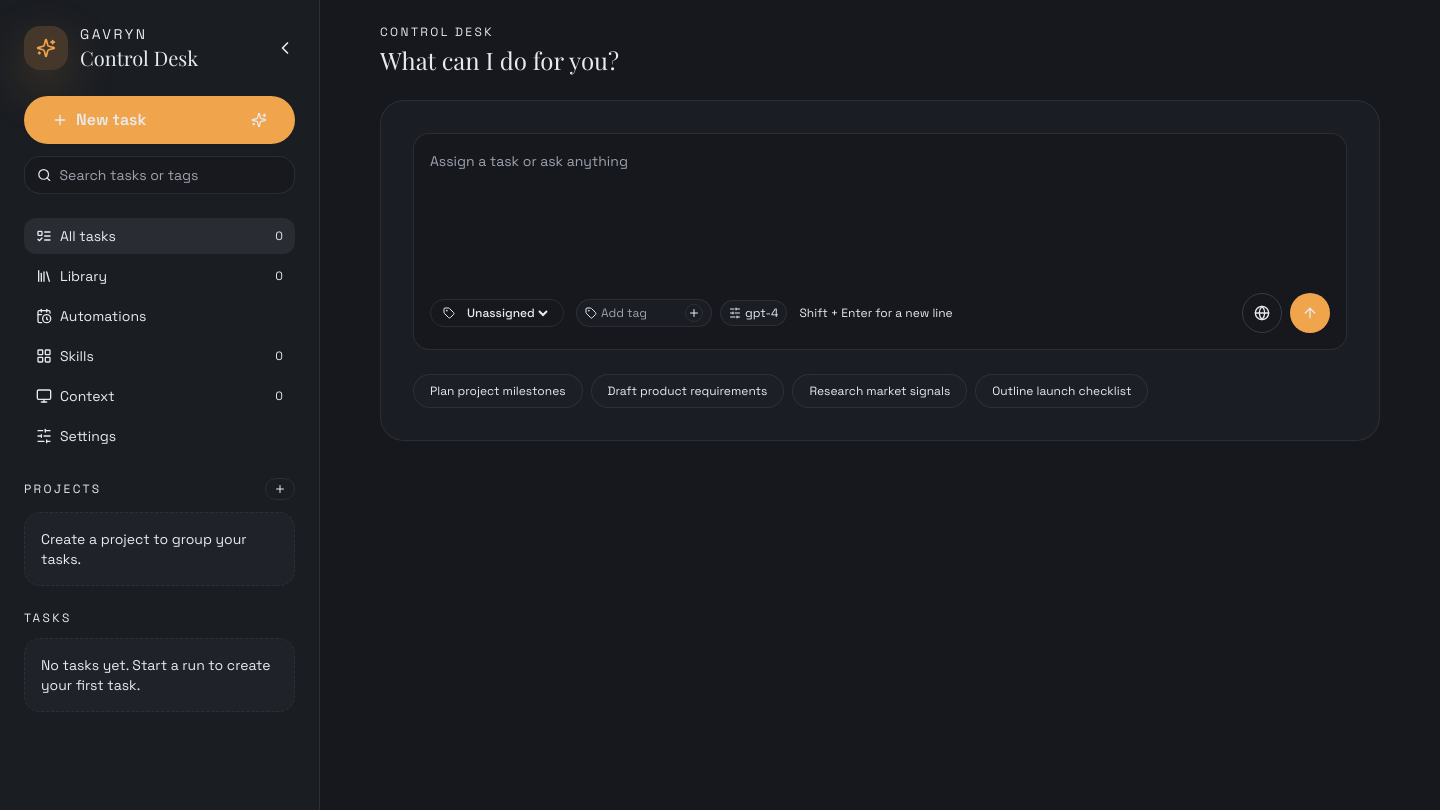
Scenario: App Component › 4. Async Function Tests › loads context nodes on mount of context view
Expected: the text "Control Desk" below "Gavryn" is shown, [80, 44, 198, 71]
Navigate to Context
Step 1. Click the text "Context" → (75, 396), box [36, 386, 115, 406]
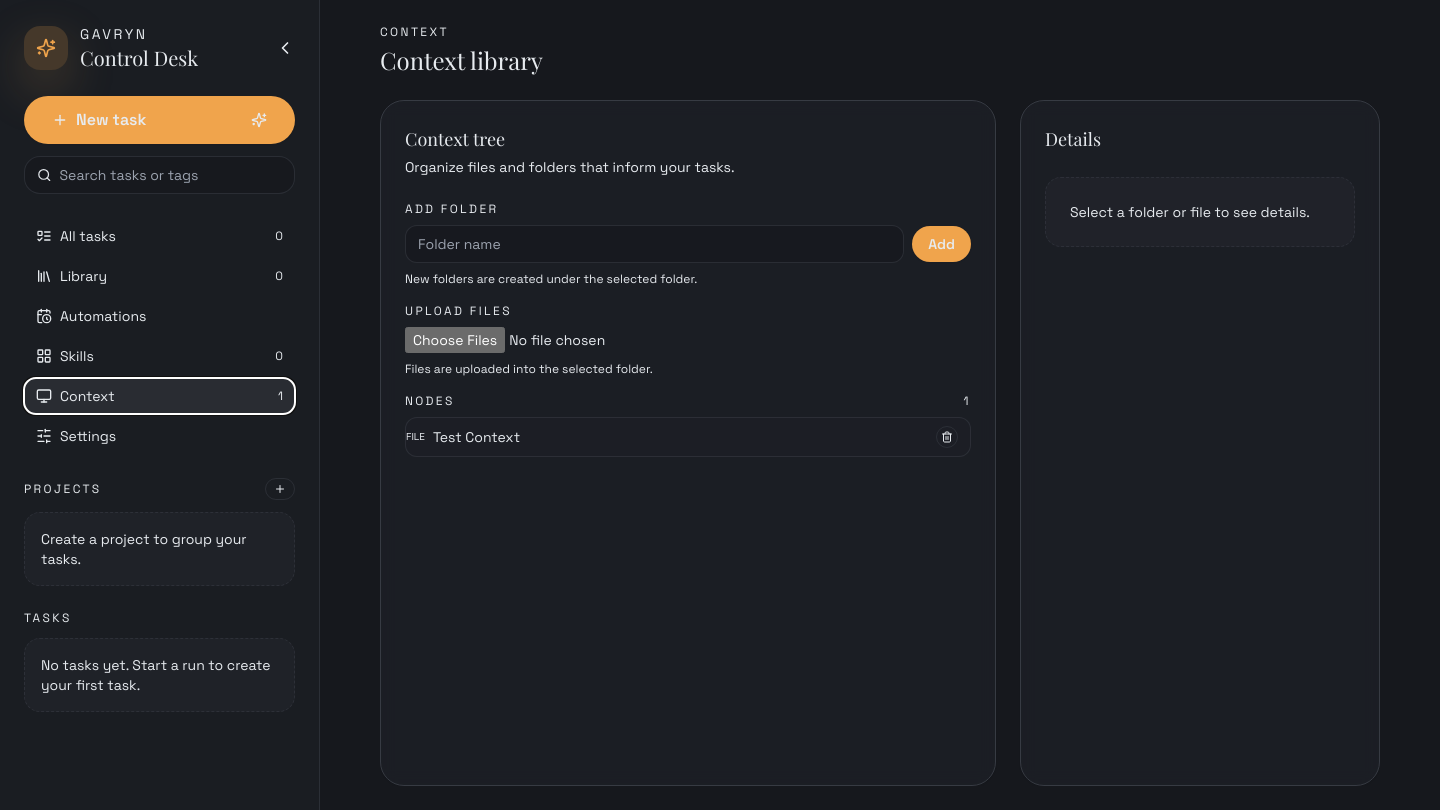
Expected: the text "Test Context" is shown, [433, 427, 520, 447]
